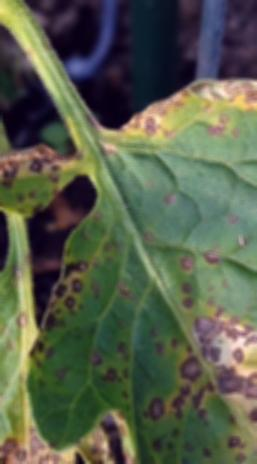Tomato Septoria leaf spot: (0, 46, 257, 464), (0, 244, 161, 464)
